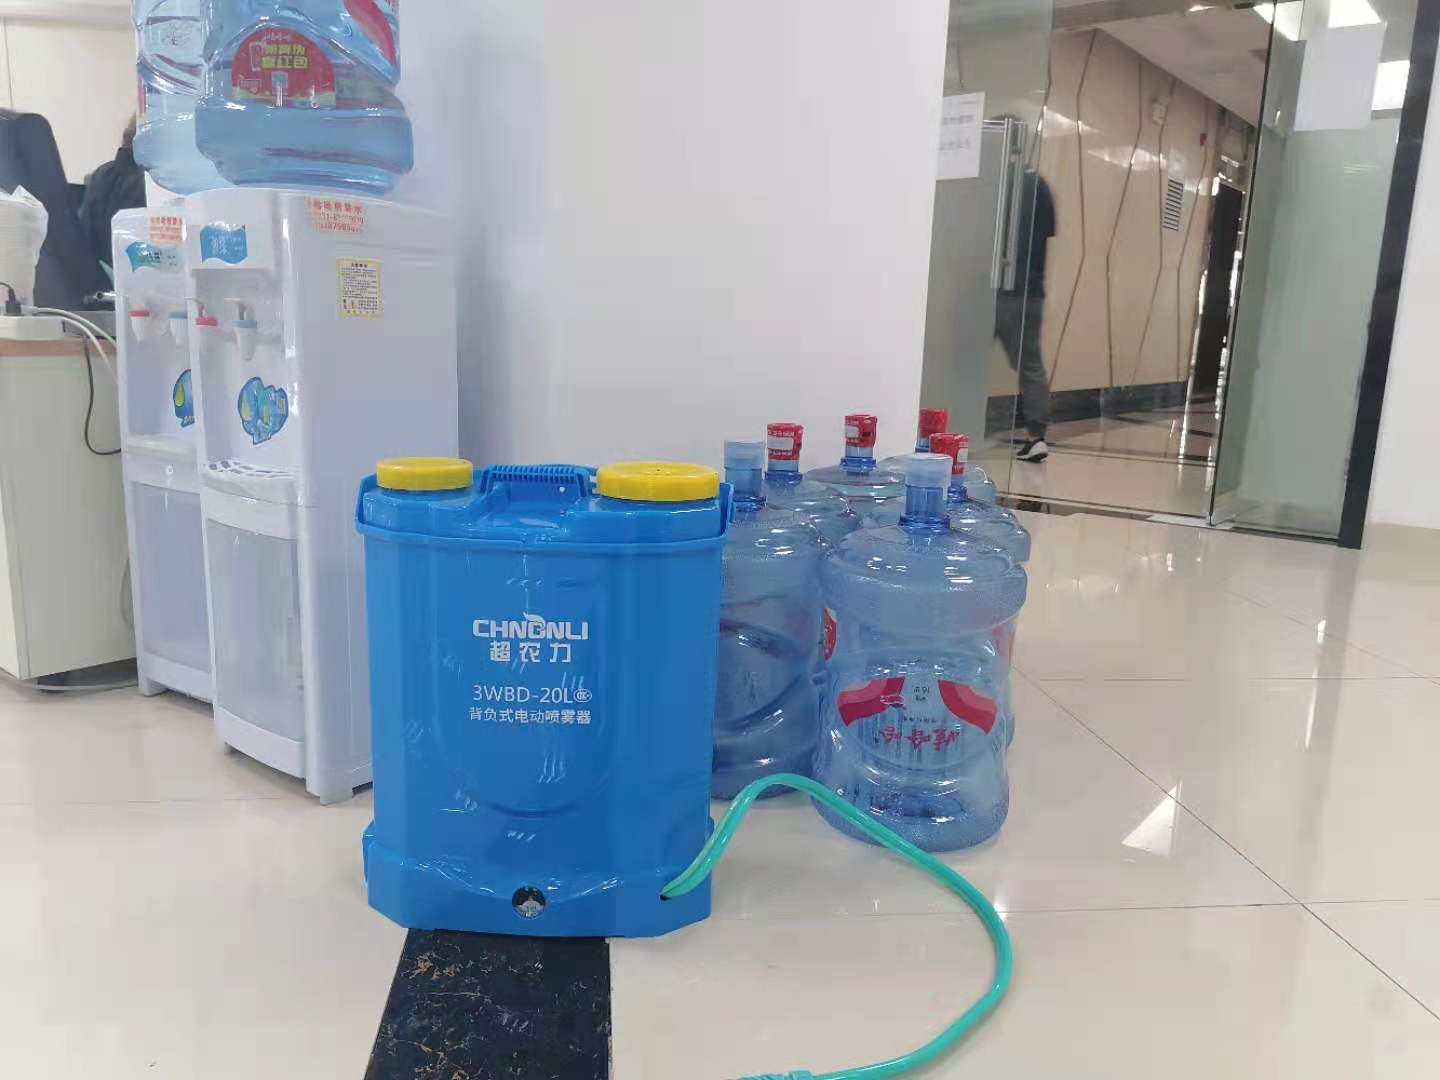berrl: (336, 450, 739, 946)
